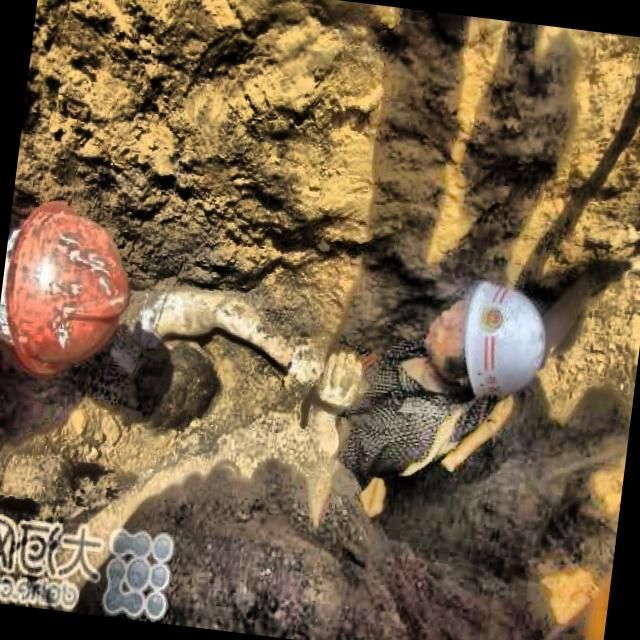helmet: (0, 194, 148, 397), (427, 282, 555, 410)
